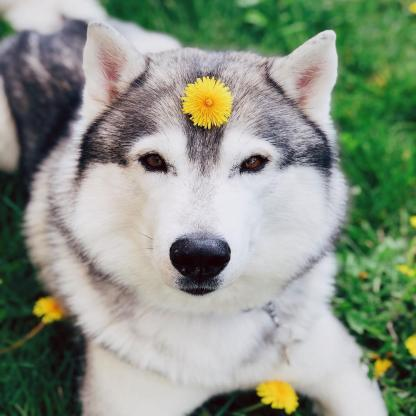husky: (1, 4, 395, 416)
